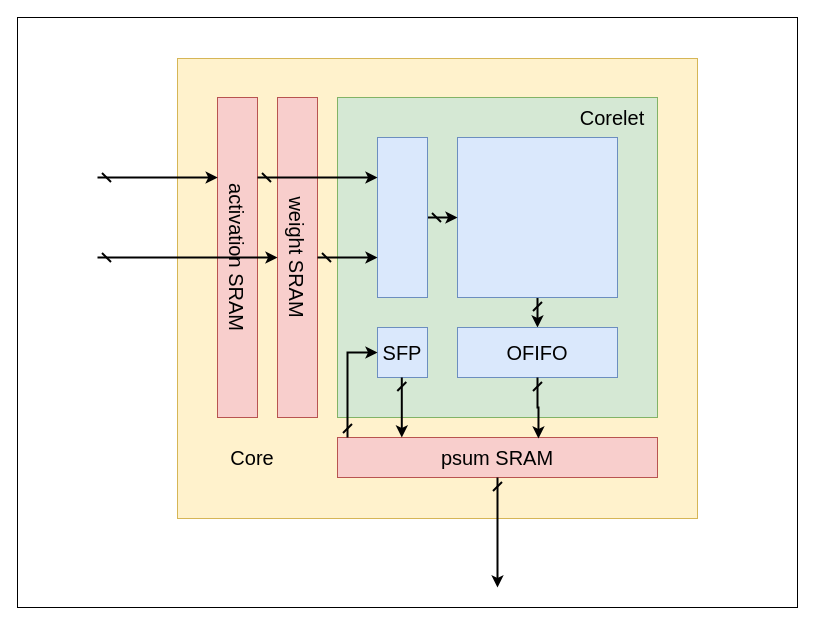
This 815x625 diagram has some shape labels left out. Each missing label, with the centre of its shape:
L0: the point at 402,217
MAC array: the point at 537,217
